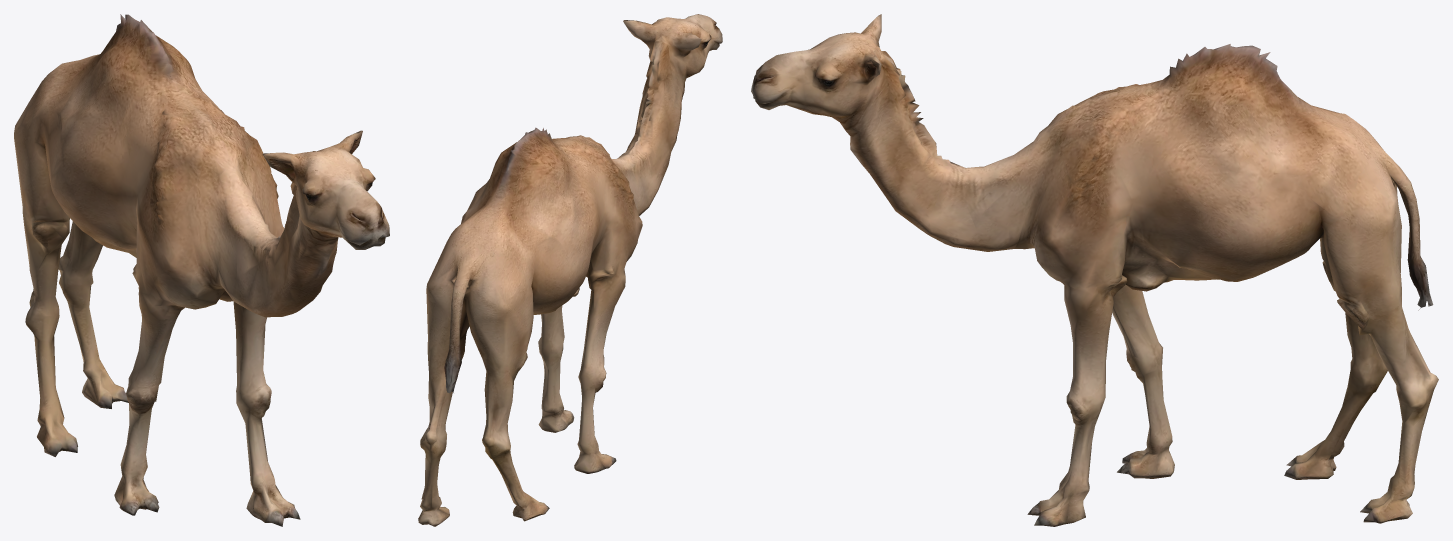
File: animal_camel.glb
3 views of the same model, side by side, from view 1: azimuth 30°, elevation 25°; view 2: azimuth 150°, elevation 25°; view 3: azimuth 270°, elevation 25° (orthographic). The views are drawn at different scales.
Visible parts, largest first — view 1: tripo_node_d0b34612-6a32-4a95-b204-736295fb1ed0; view 2: tripo_node_d0b34612-6a32-4a95-b204-736295fb1ed0; view 3: tripo_node_d0b34612-6a32-4a95-b204-736295fb1ed0.
Boxes of the visible parts, box(x1,y1,x2,y2) form: tripo_node_d0b34612-6a32-4a95-b204-736295fb1ed0: box(14, 14, 389, 526); tripo_node_d0b34612-6a32-4a95-b204-736295fb1ed0: box(418, 14, 722, 526); tripo_node_d0b34612-6a32-4a95-b204-736295fb1ed0: box(751, 14, 1438, 526).
Size of the model in its own units: 0.2492 by 0.7213 by 0.9815.
Materials: 1 (1 with a texture image).
